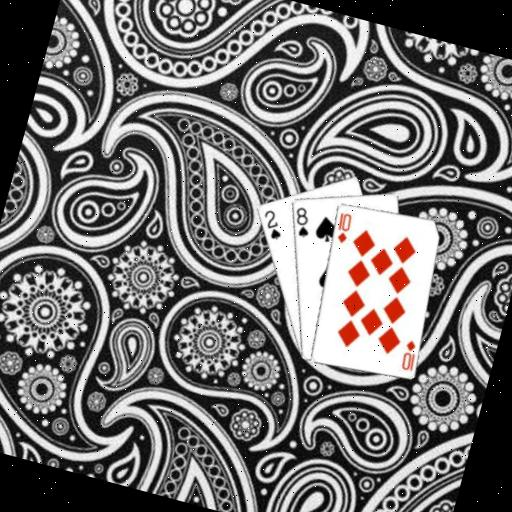10D: (396, 335, 421, 373), (329, 208, 354, 245)
2S: (255, 204, 288, 242)
8S: (286, 202, 315, 240)
